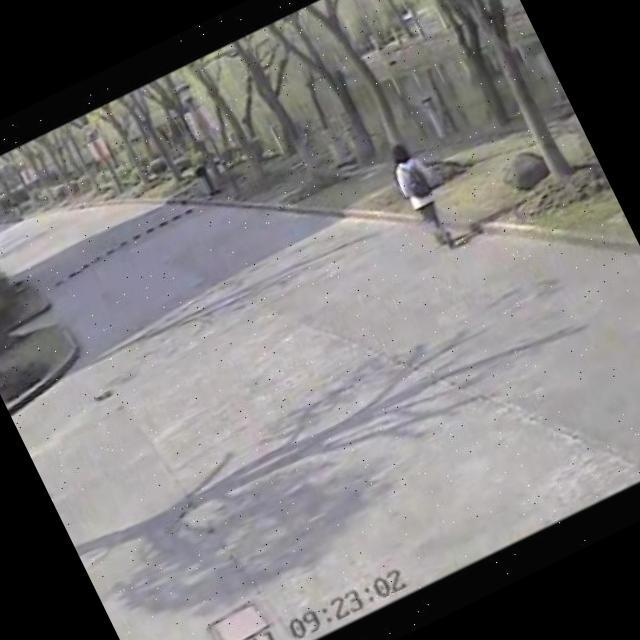person: (371, 122, 472, 265)
